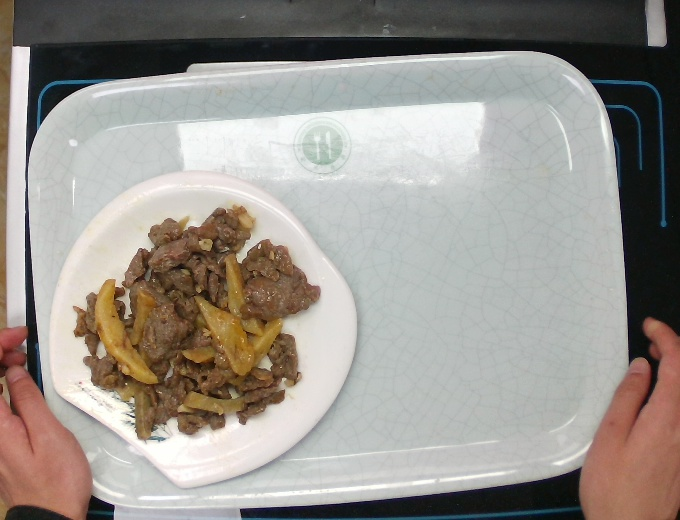JYsf-Mian_Pan: (43, 165, 363, 492)
